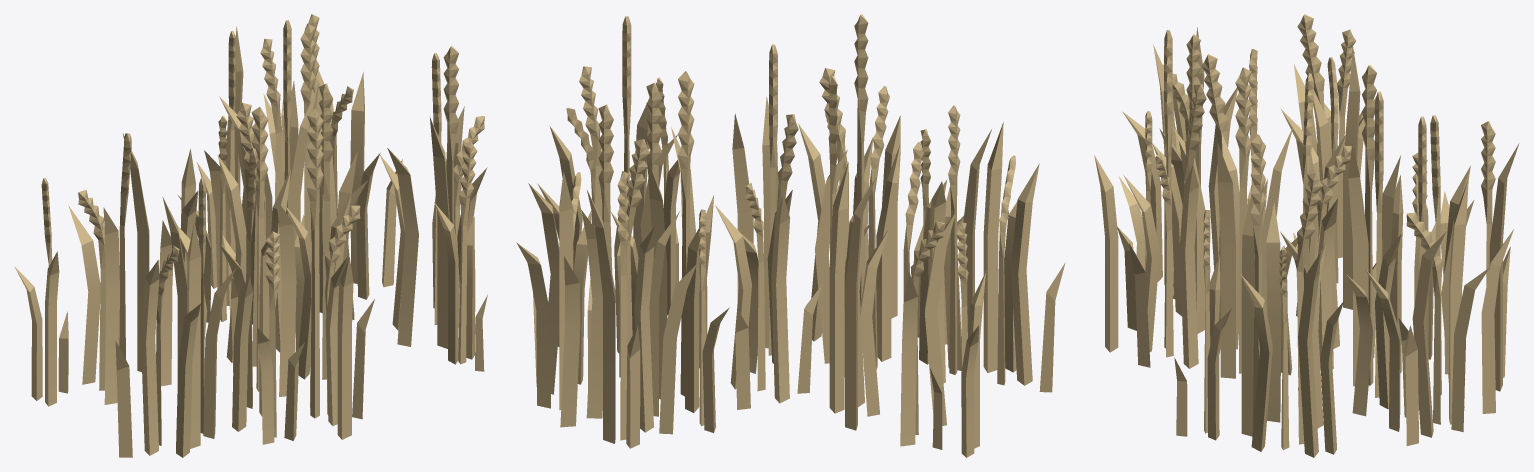
The model's file is SM_Prop_Plant_Wheat_04.fbx.
3 renders of one model, left to right at view 1: azimuth 30°, elevation 25°; view 2: azimuth 150°, elevation 25°; view 3: azimuth 270°, elevation 25°, orthographic. The views are drawn at different scales.
Parts seen in each view (by area): view 1: SM_Prop_Plant_Wheat_04; view 2: SM_Prop_Plant_Wheat_04; view 3: SM_Prop_Plant_Wheat_04.
Boxes of the visible parts, x1=… form: SM_Prop_Plant_Wheat_04: x1=14, y1=14, x2=487, y2=457; SM_Prop_Plant_Wheat_04: x1=516, y1=14, x2=1065, y2=457; SM_Prop_Plant_Wheat_04: x1=1094, y1=14, x2=1519, y2=457.
Bounding box in the file's own units: 1.74 × 1.19 × 1.44.
1 material, 1 textured.
